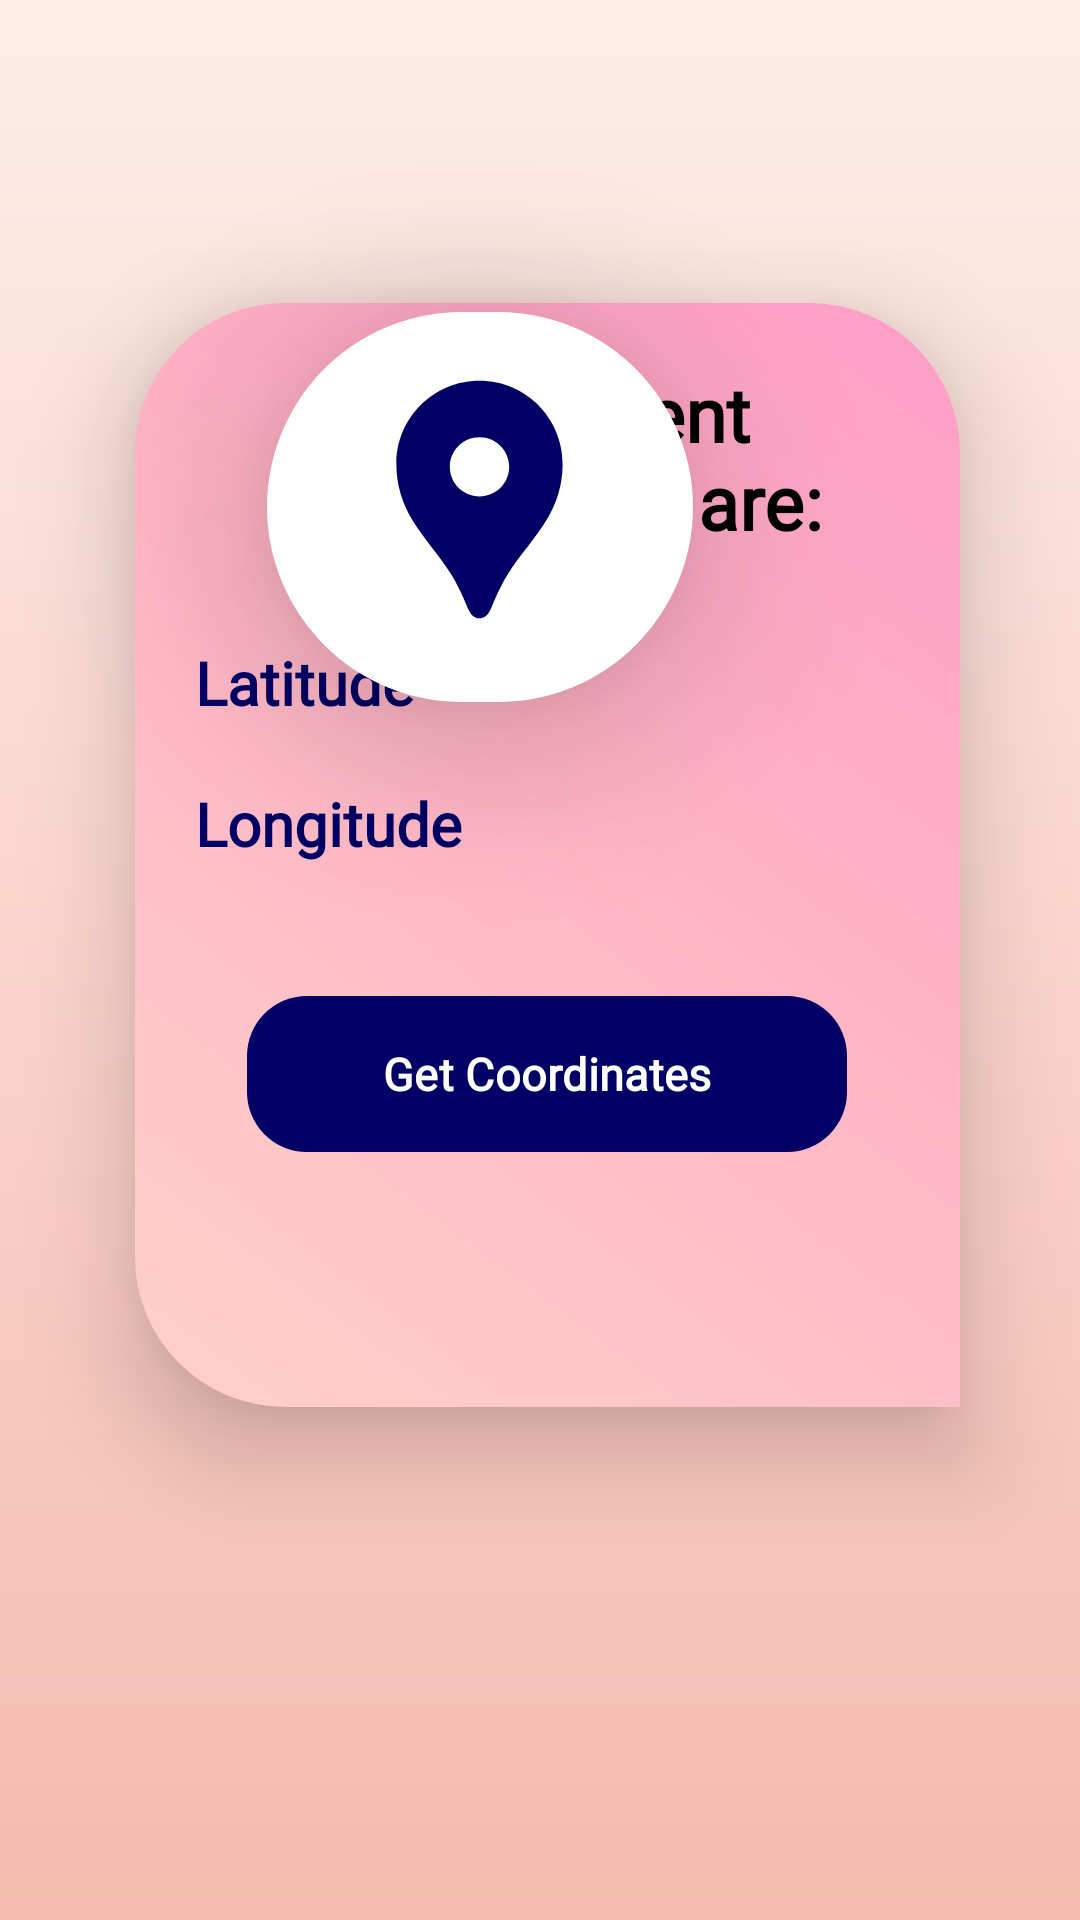

Named icons in this screenshot (1080×1920) and their centers, point (x, y):
location pin: point (479, 499)
